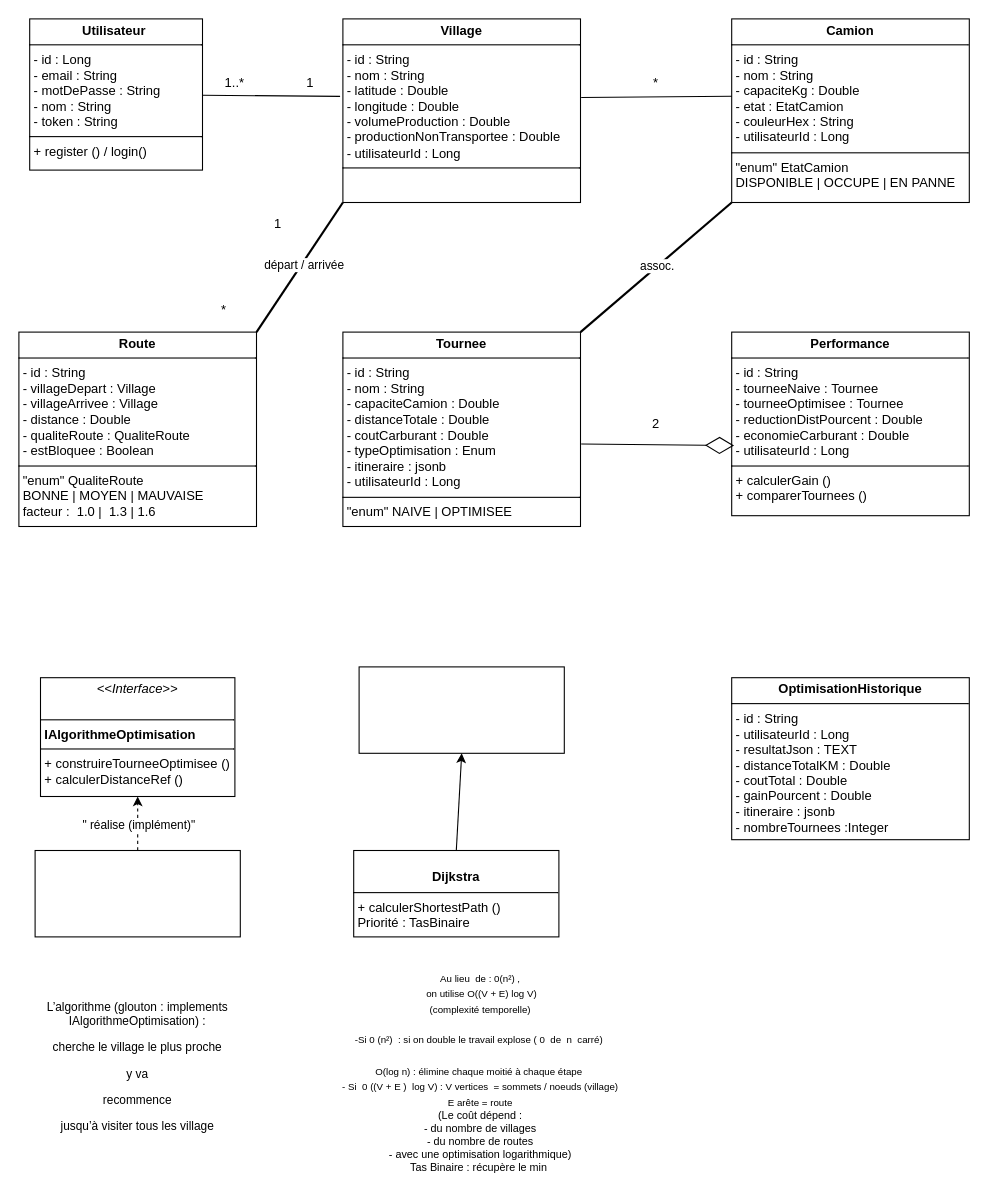
Some shapes in this 988 by 1193 pixel diagram are drawn without their labels. Each missing label, with the centre of its shape:
"Graphe - noeuds : Map (Village) - aretes : List (Roues)" belongs at (x=461, y=709).
"OptimisationTourneeGreedy Greedy Nearest-Neighbor Coût : .. Ar / km" belongs at (x=137, y=893).
